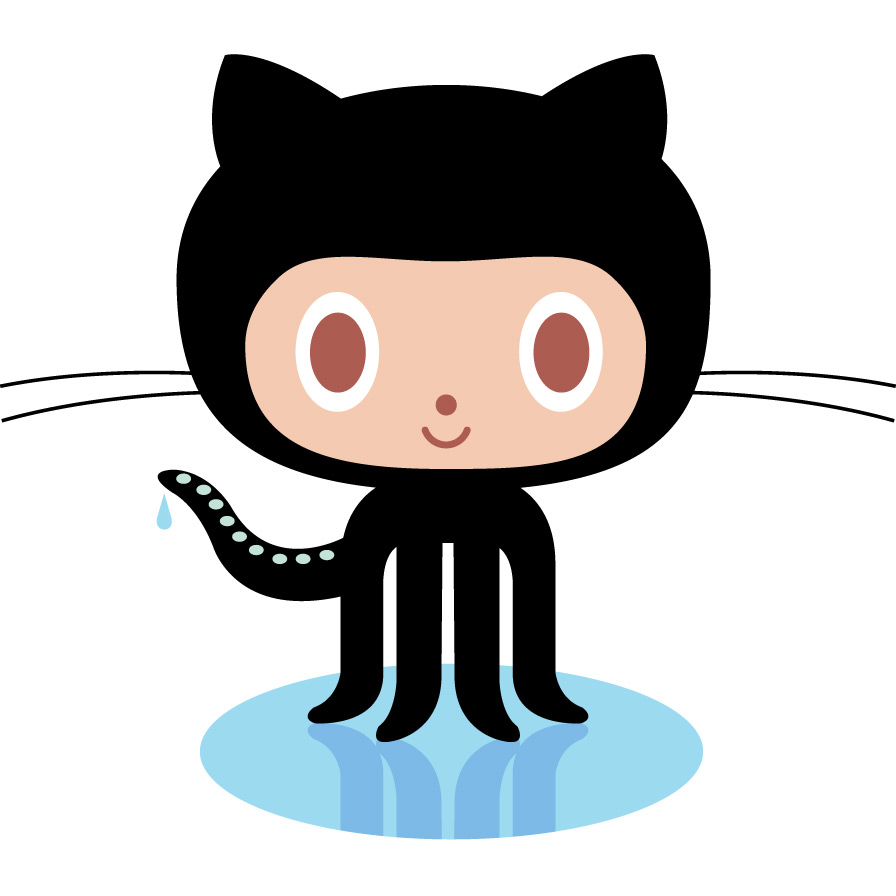octocat: (154, 53, 718, 749)
